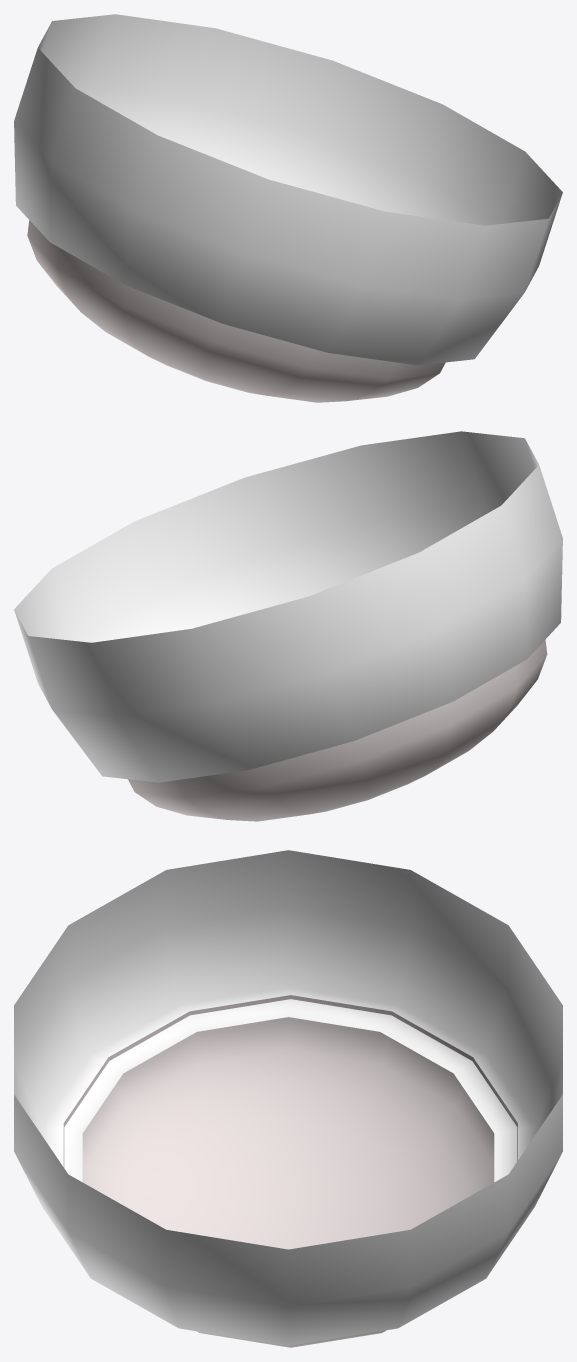
File: Roof light (1).fbx
The picture shows the model from 3 angles, top to bottom: view 1: azimuth 30°, elevation 25°; view 2: azimuth 150°, elevation 25°; view 3: azimuth 270°, elevation 25°; orthographic projection.
Visible parts, largest first — view 1: pCylinder1, pSphere1; view 2: pCylinder1, pSphere1; view 3: pCylinder1, pSphere1.
Boxes of the visible parts, bbox=[...] form: pCylinder1: bbox=[14, 14, 562, 365]; pSphere1: bbox=[27, 220, 445, 402]; pCylinder1: bbox=[14, 431, 562, 782]; pSphere1: bbox=[128, 640, 547, 821]; pCylinder1: bbox=[14, 850, 562, 1345]; pSphere1: bbox=[63, 995, 517, 1347].
Bounding box in the file's own units: 36.95 × 25.34 × 36.3.
Materials: 1 (1 with a texture image).
